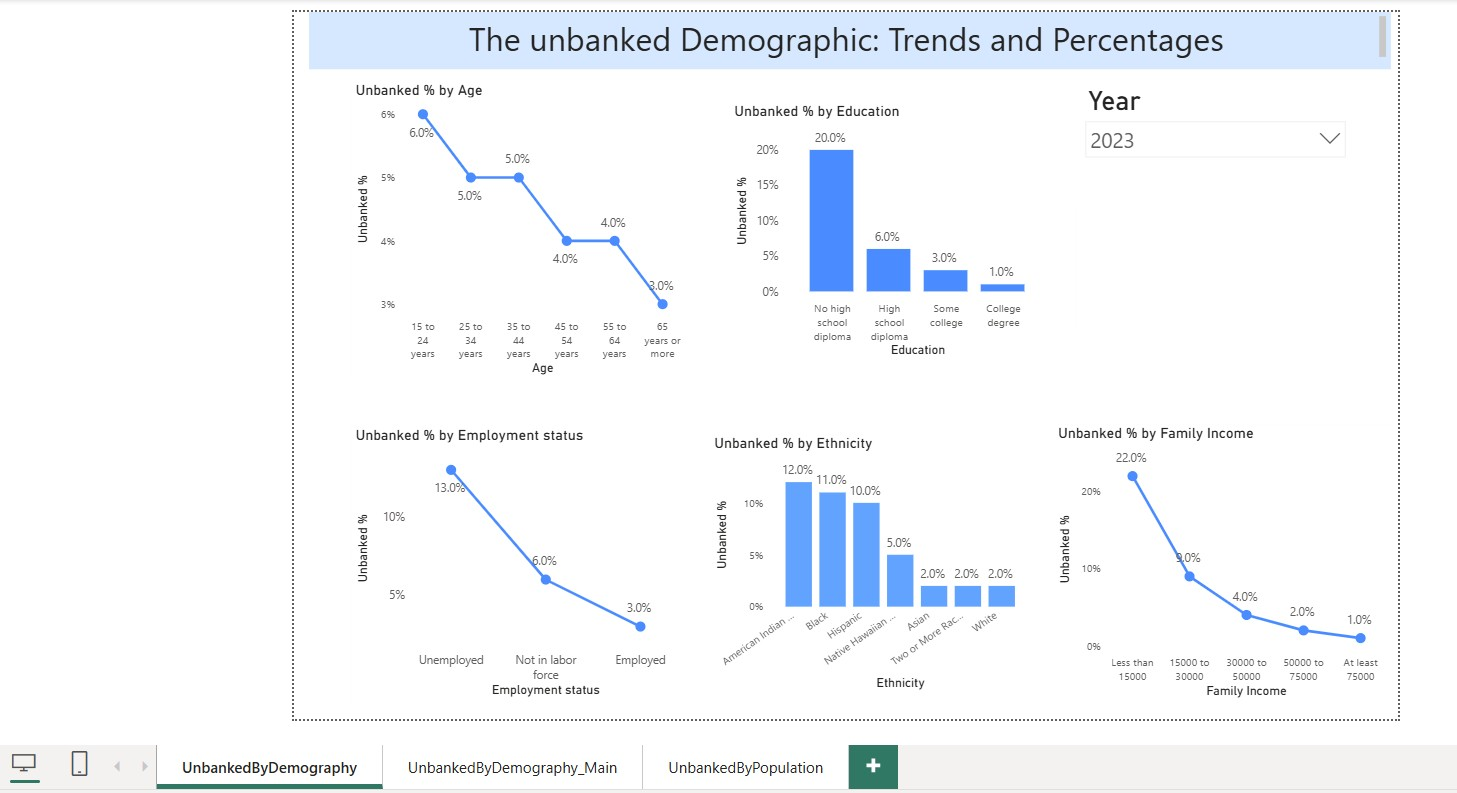

The page's visual inventory and layout, read from the dashboard file:
{"tool":"powerbi","page":{"name":"UnbankedByDemography","canvas":[1280,820],"ordinal":0},"visuals":[{"type":"slicer","fields":{"Values":["DimYear.Year"]},"box":[906.7,79.2,321.6,290.9],"z":0},{"type":"lineChart","fields":{"Y":["Sum(FactUnbankedHouseholds.Unbanked_Pct)"],"Category":["DimCategory.CategoryValue"]},"box":[66.3,79.2,391.1,345.9],"z":1000},{"type":"columnChart","fields":{"Category":["DimCategory.CategoryValue"],"Y":["Sum(FactUnbankedHouseholds.Unbanked_Pct)"]},"box":[505.9,105.1,374.9,300.6],"z":2000},{"type":"lineChart","fields":{"Y":["Sum(FactUnbankedHouseholds.Unbanked_Pct)"],"Category":["DimCategory.CategoryValue"]},"box":[66.3,480,391.1,320],"z":3000},{"type":"columnChart","fields":{"Category":["DimCategory.CategoryValue"],"Y":["Sum(FactUnbankedHouseholds.Unbanked_Pct)"]},"box":[483.2,489.7,374.9,300.6],"z":4000},{"type":"lineChart","fields":{"Y":["Sum(FactUnbankedHouseholds.Unbanked_Pct)"],"Category":["DimCategory.CategoryValue"]},"box":[880.8,478.4,391.1,321.6],"z":5000},{"type":"textbox","box":[17.8,0,1254.1,66.3],"z":6000}]}

Visuals, with their boxes on the page's 1280x820 design canvas (x1, y1, x2, y2). These are canvas units, not pixel positions in the 1457x793 screenshot, which may show the page scaled, cropped or inside an application window:
slicer - DimYear.Year: x1=907 y1=79 x2=1228 y2=370
lineChart - Sum(FactUnbankedHouseholds.Unbanked_Pct) x DimCategory.CategoryValue: x1=66 y1=79 x2=457 y2=425
columnChart - DimCategory.CategoryValue x Sum(FactUnbankedHouseholds.Unbanked_Pct): x1=506 y1=105 x2=881 y2=406
lineChart - Sum(FactUnbankedHouseholds.Unbanked_Pct) x DimCategory.CategoryValue: x1=66 y1=480 x2=457 y2=800
columnChart - DimCategory.CategoryValue x Sum(FactUnbankedHouseholds.Unbanked_Pct): x1=483 y1=490 x2=858 y2=790
lineChart - Sum(FactUnbankedHouseholds.Unbanked_Pct) x DimCategory.CategoryValue: x1=881 y1=478 x2=1272 y2=800
textbox: x1=18 y1=0 x2=1272 y2=66
